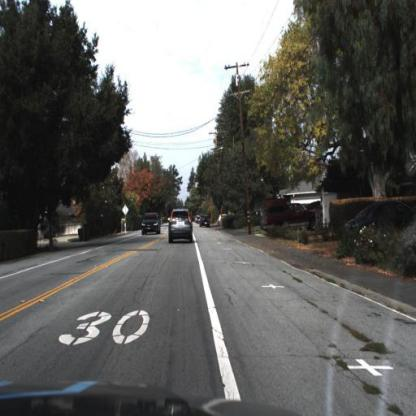car: (262, 195, 316, 233), (167, 207, 197, 248), (140, 205, 163, 238), (200, 213, 214, 231)
